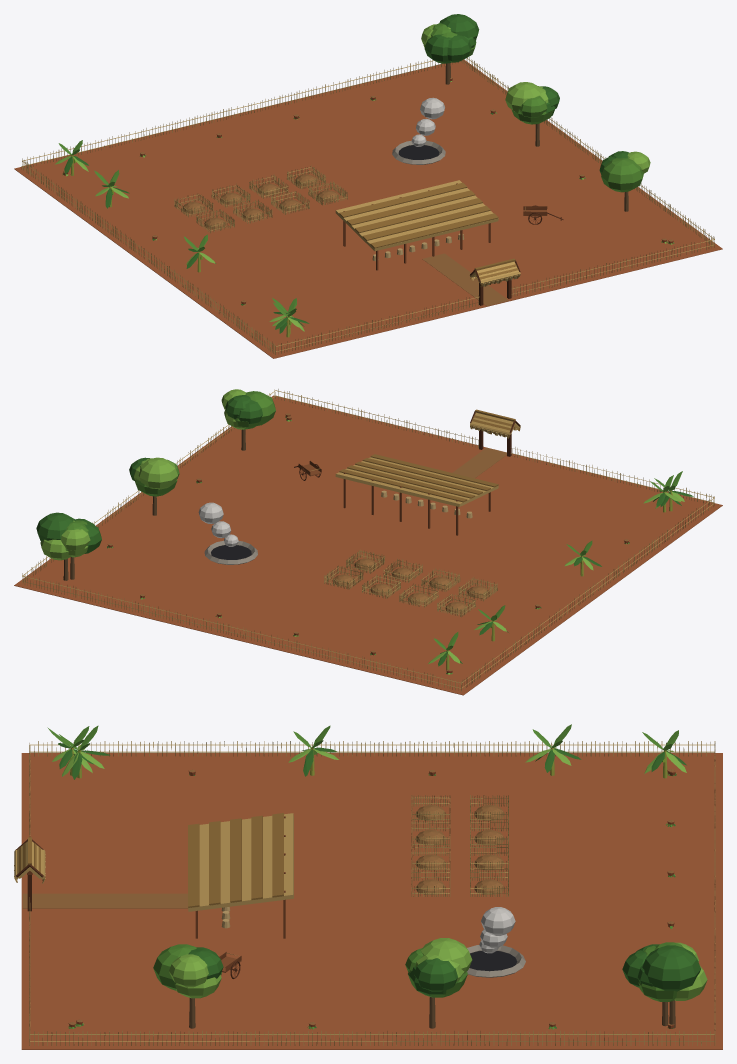
The model's file is waste.glb.
3 renders of one model, top to bottom at view 1: azimuth 30°, elevation 25°; view 2: azimuth 150°, elevation 25°; view 3: azimuth 270°, elevation 25°, orthographic. The views are drawn at different scales.
Visible parts, largest first — view 1: body; view 2: body; view 3: body.
Part boxes in pixels (x1=…): body: x1=14, y1=14, x2=722, y2=358; body: x1=14, y1=389, x2=722, y2=695; body: x1=14, y1=724, x2=722, y2=1049.
Size of the model in its own units: 47.9 by 6.72 by 48.44.
